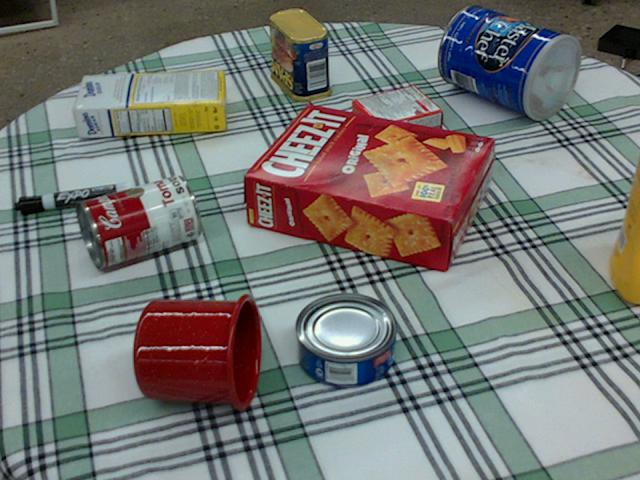cracker_box: (244, 102, 493, 269)
gelatin_box: (349, 81, 441, 145)
large_marker: (13, 181, 132, 214)
master_chef_can: (436, 6, 578, 119)
mug: (132, 289, 261, 408)
mustard_bottle: (608, 153, 639, 301)
potted_meat_can: (268, 8, 331, 100)
sugar_box: (72, 70, 226, 135)
tomato_soup_can: (75, 173, 199, 268)
tuna_fish_can: (294, 292, 397, 387)
